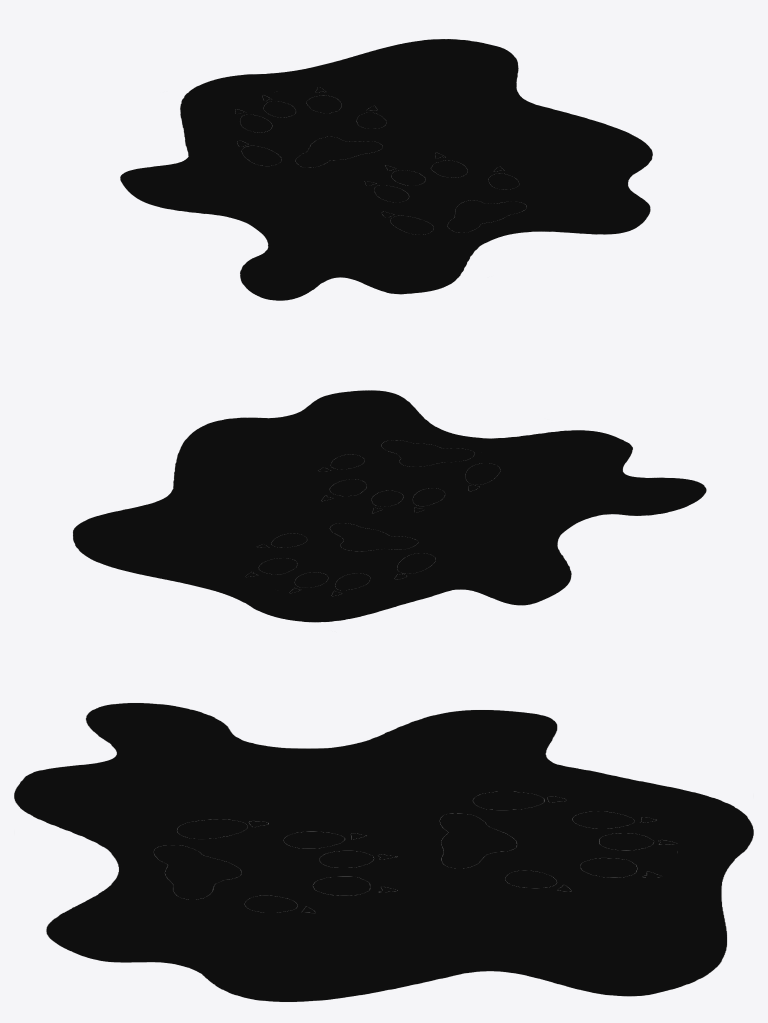
The model's file is AnimalPaws.glb.
The picture shows the model from 3 angles, top to bottom: view 1: azimuth 30°, elevation 25°; view 2: azimuth 150°, elevation 25°; view 3: azimuth 270°, elevation 25°; orthographic projection. The views are drawn at different scales.
Visible parts, largest first — view 1: Plane.001, Plane.003, Plane; view 2: Plane.001, Plane.003, Plane; view 3: Plane.001, Plane.003, Plane.
Part boxes in pixels (left/top/right/bottom): Plane.001: left=120, top=39, right=652, bottom=300; Plane.003: left=120, top=39, right=652, bottom=293; Plane: left=235, top=87, right=526, bottom=234; Plane.001: left=73, top=390, right=706, bottom=622; Plane.003: left=73, top=390, right=706, bottom=621; Plane: left=246, top=440, right=500, bottom=596; Plane.001: left=14, top=703, right=753, bottom=1001; Plane.003: left=14, top=703, right=753, bottom=1001; Plane: left=153, top=791, right=677, bottom=912.
Bounding box in the file's own units: 2 × 0.000396 × 2.
4 materials, 4 textured.
